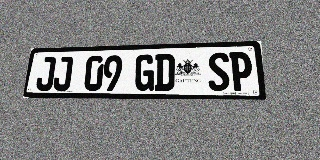0: (83, 56, 104, 91)
9: (102, 55, 123, 91)
D: (154, 54, 175, 91)
G: (134, 54, 155, 91)
J: (52, 56, 73, 91), (35, 57, 56, 91)
P: (229, 52, 253, 91)
S: (208, 52, 230, 91)
